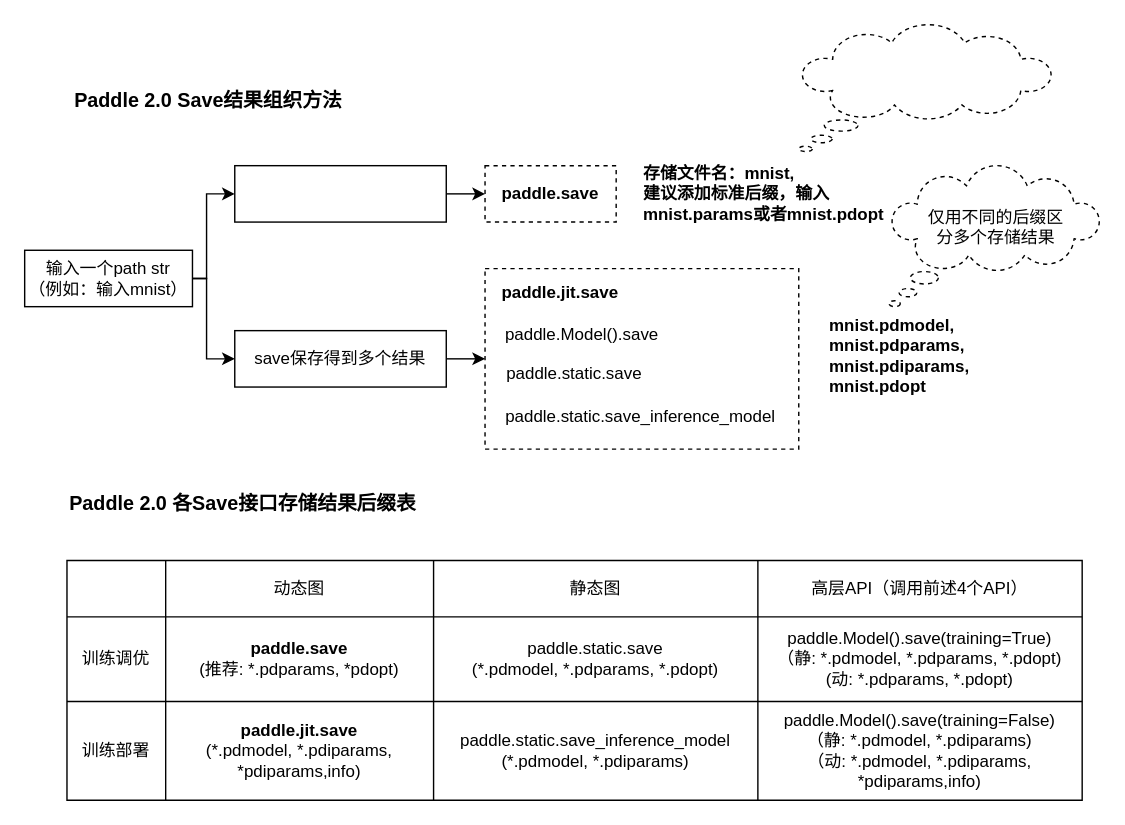
Image size: 1125x825. Some labels were removed from this diagram. The shapes that lost their labels are listed below. From the top down, each one's box as (x1, y1, x2, y2) in pixels, then its label:
(797, 23, 1053, 152): 一个path与一个存储结果对应，无歧义
(233, 164, 446, 222): save保存得到一个结果
